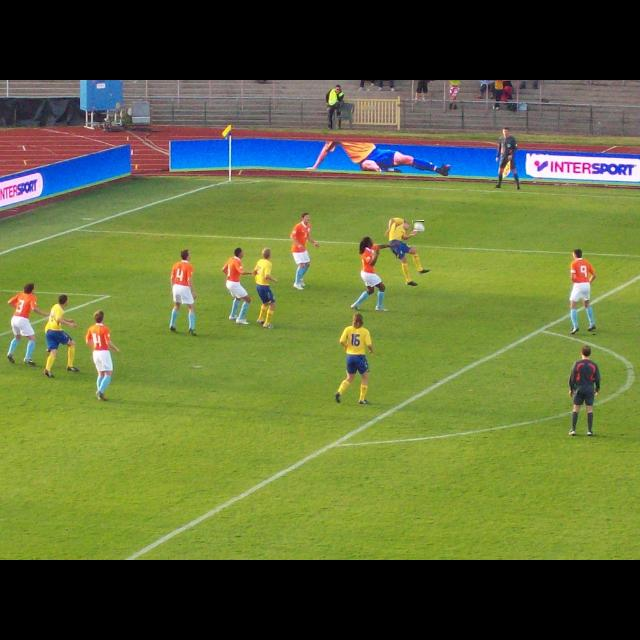Football: (412, 221, 424, 231)
